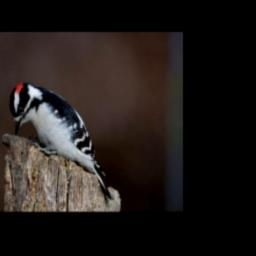Woodpecker: (8, 80, 115, 202)
